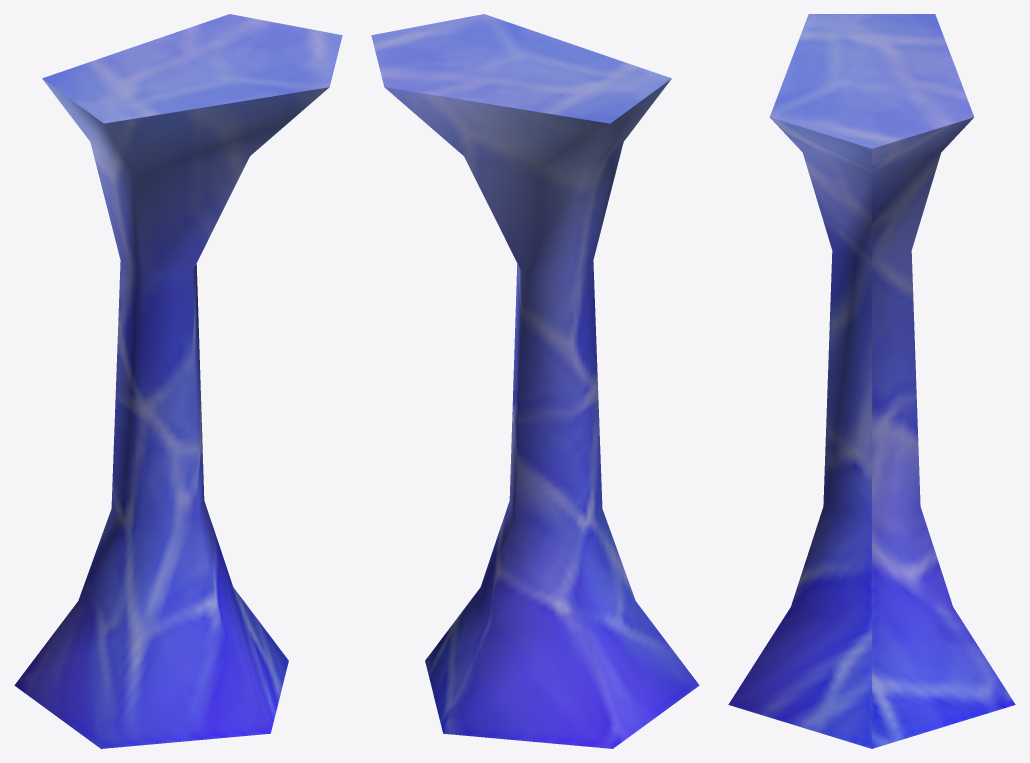
File: ice_prop_1.FBX
3 renders of one model, left to right at view 1: azimuth 30°, elevation 25°; view 2: azimuth 150°, elevation 25°; view 3: azimuth 270°, elevation 25°, orthographic. The views are drawn at different scales.
Parts seen in each view (by area): view 1: Object031; view 2: Object031; view 3: Object031.
Part boxes in pixels (box(x1,y1,x2,y2)): Object031: box(14, 14, 342, 748); Object031: box(371, 14, 699, 748); Object031: box(728, 14, 1015, 748).
Bounding box in the file's own units: 50.33 × 42.94 × 103.
